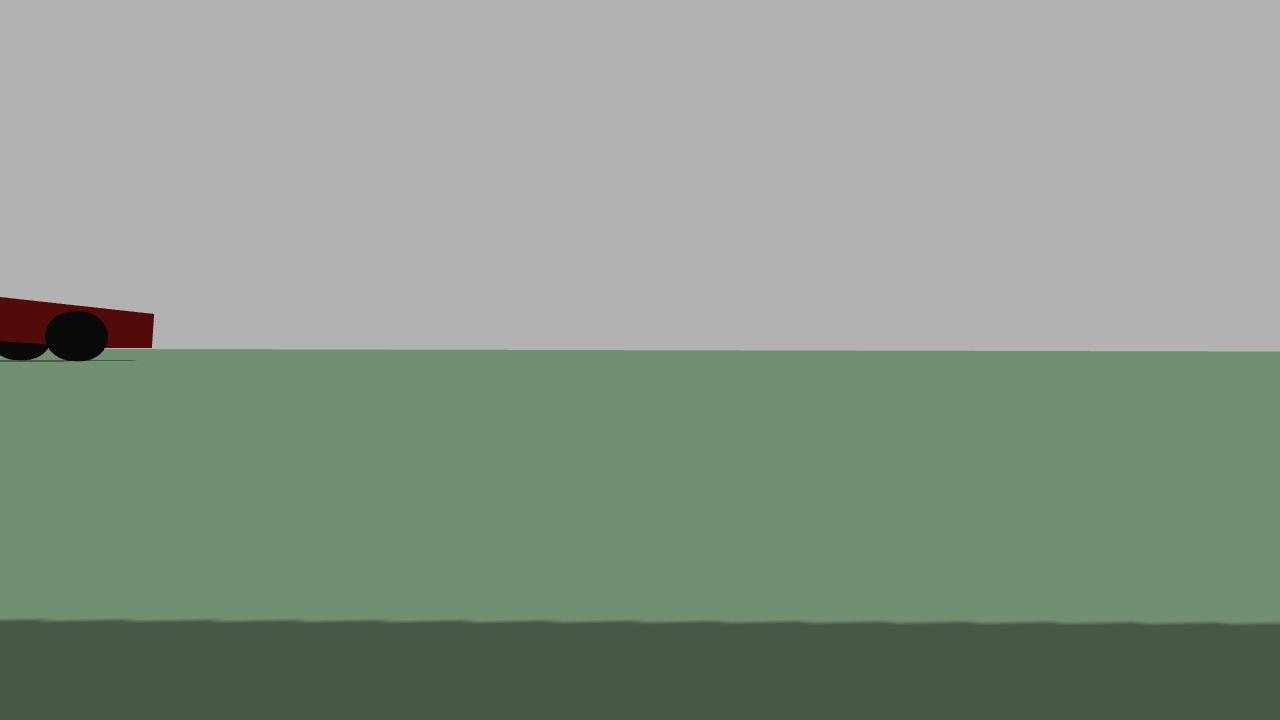ground_vehicle: (3, 281, 159, 382)
